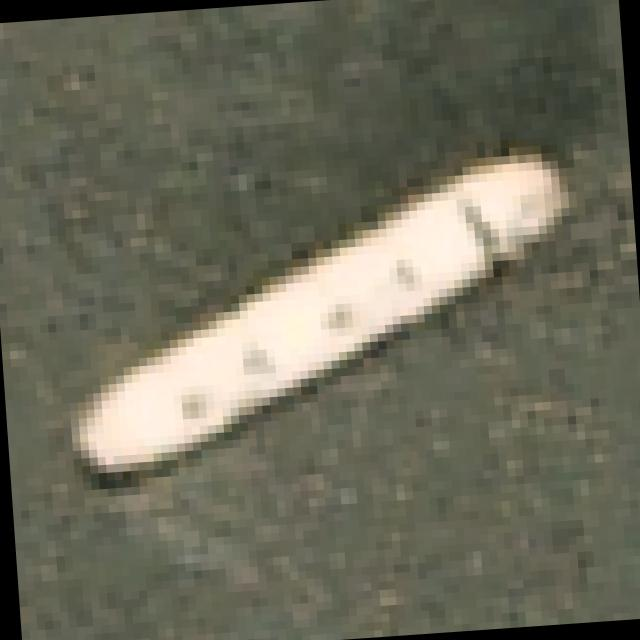ship: (33, 122, 602, 501)
